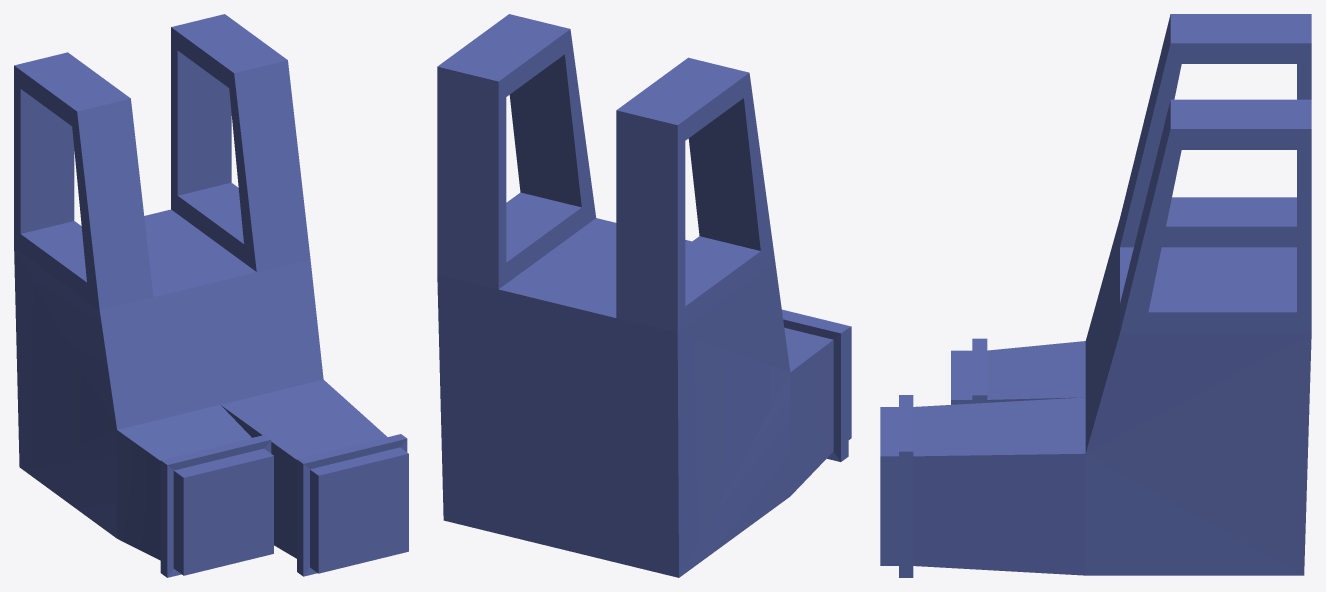
File: SK_Set1_Pants 1.fbx
3 views of the same model, side by side, from view 1: azimuth 30°, elevation 25°; view 2: azimuth 150°, elevation 25°; view 3: azimuth 270°, elevation 25° (orthographic). The views are drawn at different scales.
Visible parts, largest first — view 1: Overalls; view 2: Overalls; view 3: Overalls.
Part boxes in pixels (<box>): Overalls: <box>14,14,408,577</box>; Overalls: <box>437,14,851,577</box>; Overalls: <box>880,14,1311,577</box>.
Bounding box in the file's own units: 1956 × 3564 × 3096.
